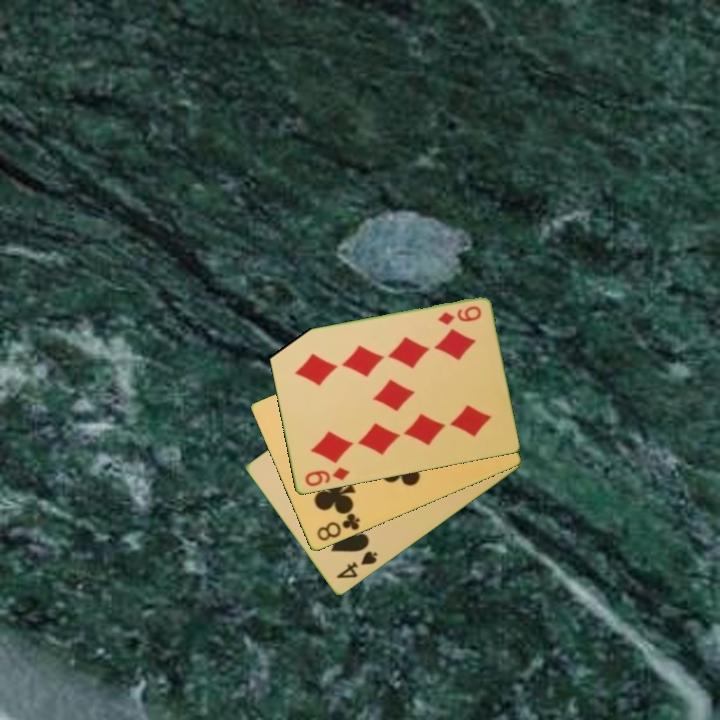4s: (333, 548, 381, 582)
8c: (313, 510, 363, 544)
9d: (301, 464, 352, 490), (435, 303, 484, 328)
